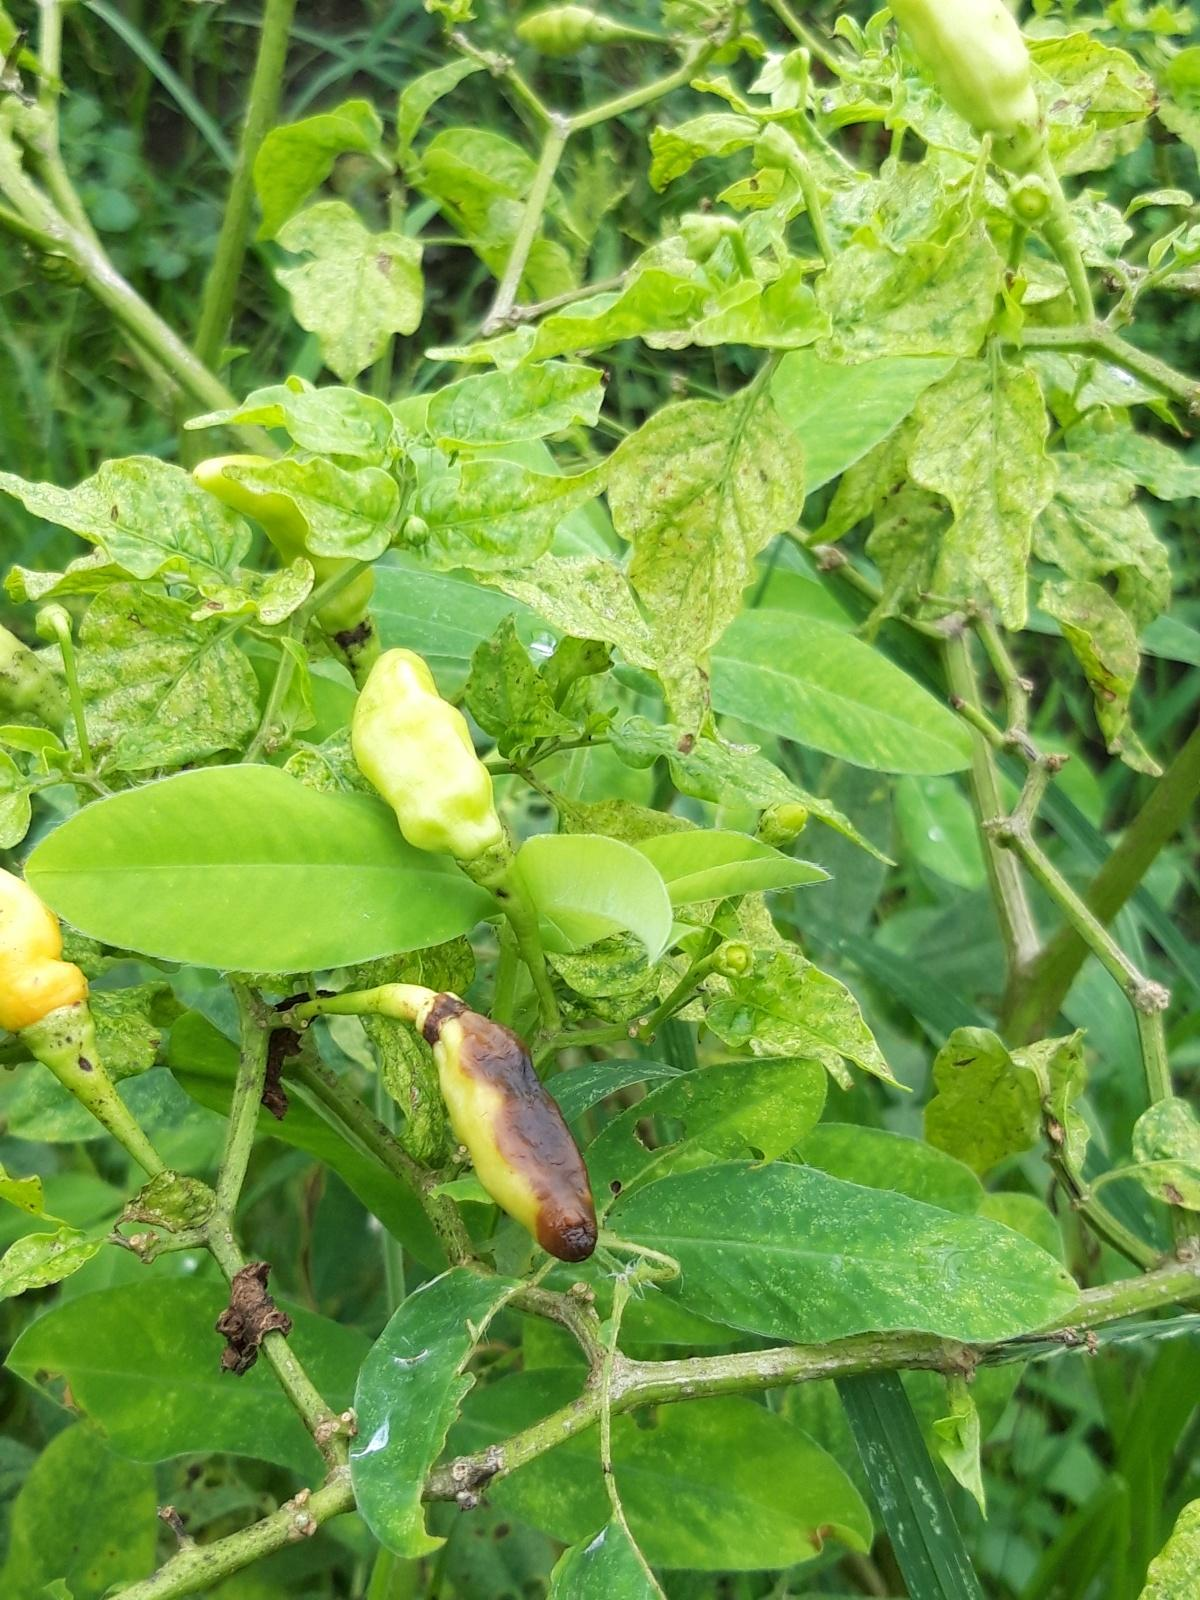cabai_normal: (350, 649, 503, 864)
lalat_buah: (413, 999, 608, 1270)
